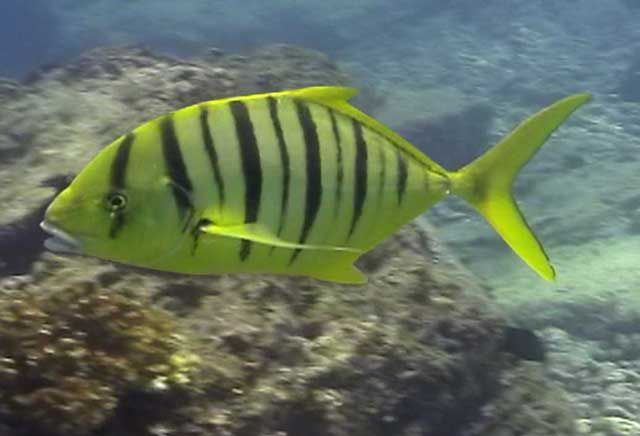fish: (39, 86, 591, 286)
